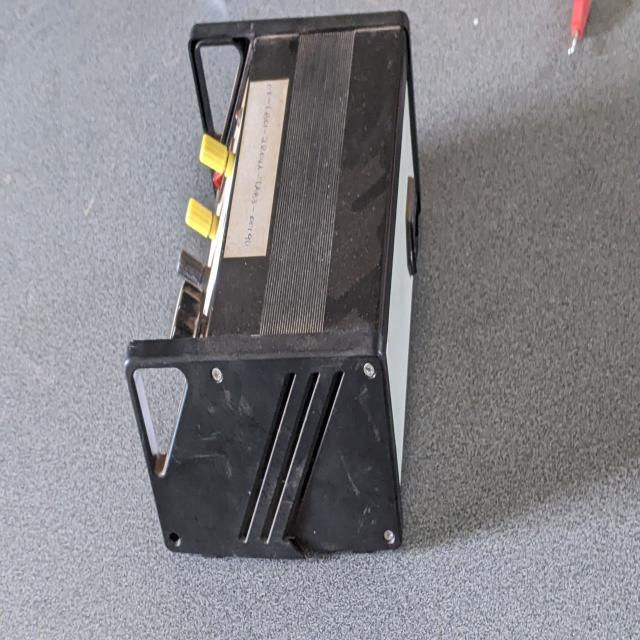AC-AD Regulated Power Supply: (124, 8, 424, 570)
